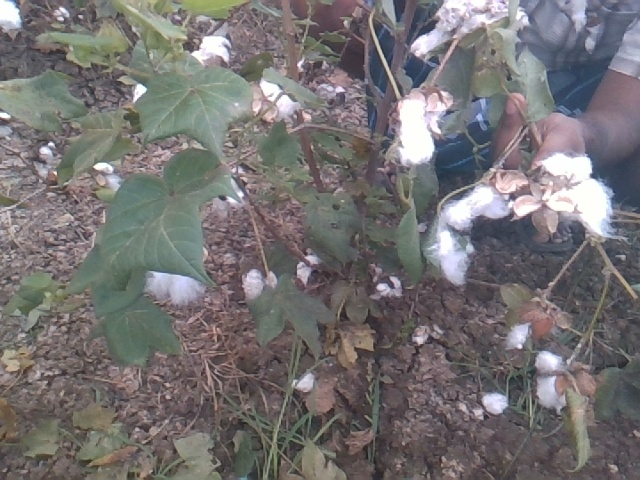cotton: (543, 151, 619, 240), (443, 185, 512, 232), (396, 95, 437, 168), (424, 235, 475, 290), (534, 350, 570, 415), (149, 271, 204, 306), (259, 79, 299, 121), (190, 35, 232, 67), (242, 268, 277, 300), (225, 169, 248, 216), (90, 159, 124, 189), (373, 272, 404, 300), (294, 255, 319, 287), (1, 1, 23, 35), (479, 392, 511, 415), (39, 142, 55, 181), (289, 372, 317, 393), (411, 327, 430, 348), (132, 81, 149, 103)
